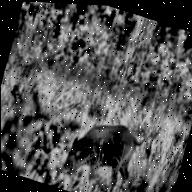boar: (52, 102, 147, 190)
